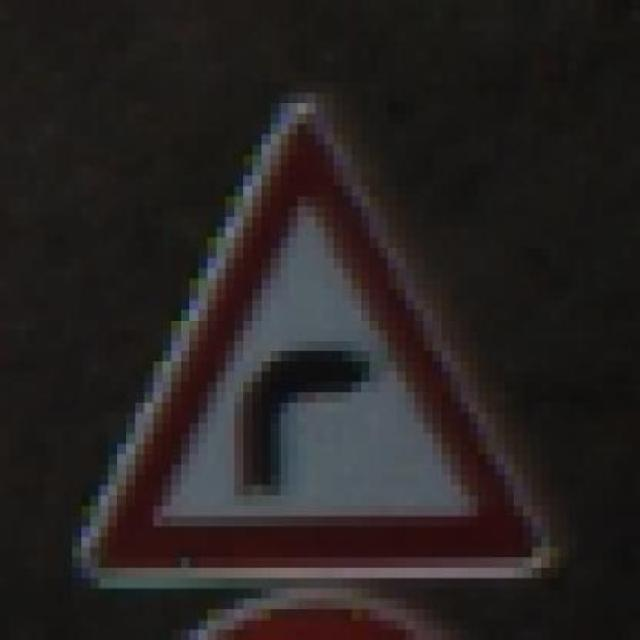Dangerous Rright Curve Ahead: (54, 82, 568, 588)
